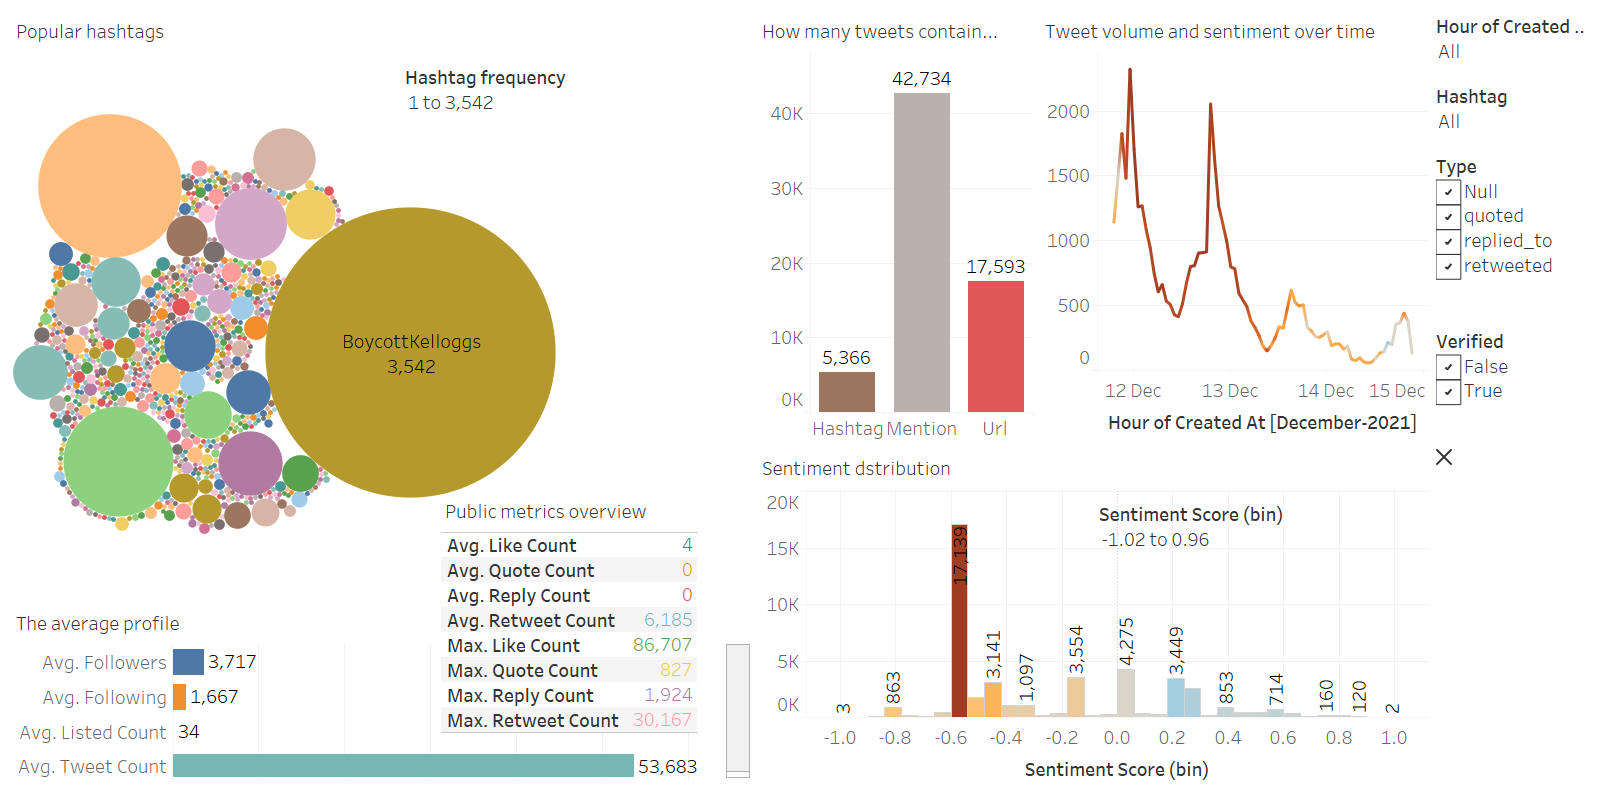

The page's visual inventory and layout, read from the dashboard file:
{"tool":"tableau","page":{"name":"Dashboard 1","canvas":[1600,800],"ordinal":0},"visuals":[{"type":"worksheet","title":"Popular hashtags","mark":"Circle","box":[8,8,746,592]},{"type":"worksheet","title":"How many tweets contain...","mark":"Automatic","box":[754,8,283.1,437]},{"type":"worksheet","title":"Number of tweets by the hour","mark":"Automatic","rows":["tweet_id"],"cols":["created_at"],"box":[1037.1,8,394.9,437]},{"type":"filter","title":"Number of tweets by the hour","param":"[federated.120svys17vpkyz1bgdwsu1e14g30].[hr:created_at:ok]","box":[1432,8,160,70]},{"type":"filter","title":"Popular hashtags","param":"[federated.120svys17vpkyz1bgdwsu1e14g30].[__tableau_internal_object_id__].[cnt:H","box":[405,63,293,97]},{"type":"filter","title":"Popular hashtags","param":"[federated.120svys17vpkyz1bgdwsu1e14g30].[none:hashtag:nk]","box":[1432,78,160,70]},{"type":"filter","title":"How many tweets contain...","param":"[federated.120svys17vpkyz1bgdwsu1e14g30].[none:type:nk]","box":[1432,148,160,175]},{"type":"filter","title":"The average profile","param":"[federated.120svys17vpkyz1bgdwsu1e14g30].[none:verified:nk]","box":[1432,323,160,121]},{"type":"worksheet","title":"Sentiment dstribution","mark":"Automatic","rows":["sentiment_score"],"cols":["Sentiment Score (bin)"],"box":[754,445,678,347]},{"type":"dashboard-object","box":[1432,445,24,24]},{"type":"worksheet","title":"Public metrics overview","mark":"Automatic","box":[441,492,265,245]},{"type":"filter","title":"Sentiment dstribution","param":"[federated.120svys17vpkyz1bgdwsu1e14g30].[none:Sentiment Score (bin):qk]","box":[1099,500,239,77]},{"type":"worksheet","title":"The average profile","mark":"Automatic","box":[8,600,746,192]}]}

Visuals, with their boxes in screenshot pixels (x1, y1, x2, y2), scaled from the page's 1600x800 canvas onto the 1600x800 screenshot:
"Popular hashtags" worksheet (Circle marks): x1=8, y1=8, x2=754, y2=600
"How many tweets contain..." worksheet: x1=754, y1=8, x2=1037, y2=445
"Number of tweets by the hour" worksheet: x1=1037, y1=8, x2=1432, y2=445
"Number of tweets by the hour" filter: x1=1432, y1=8, x2=1592, y2=78
"Popular hashtags" filter: x1=405, y1=63, x2=698, y2=160
"Popular hashtags" filter: x1=1432, y1=78, x2=1592, y2=148
"How many tweets contain..." filter: x1=1432, y1=148, x2=1592, y2=323
"The average profile" filter: x1=1432, y1=323, x2=1592, y2=444
"Sentiment dstribution" worksheet: x1=754, y1=445, x2=1432, y2=792
dashboard-object: x1=1432, y1=445, x2=1456, y2=469
"Public metrics overview" worksheet: x1=441, y1=492, x2=706, y2=737
"Sentiment dstribution" filter: x1=1099, y1=500, x2=1338, y2=577
"The average profile" worksheet: x1=8, y1=600, x2=754, y2=792
